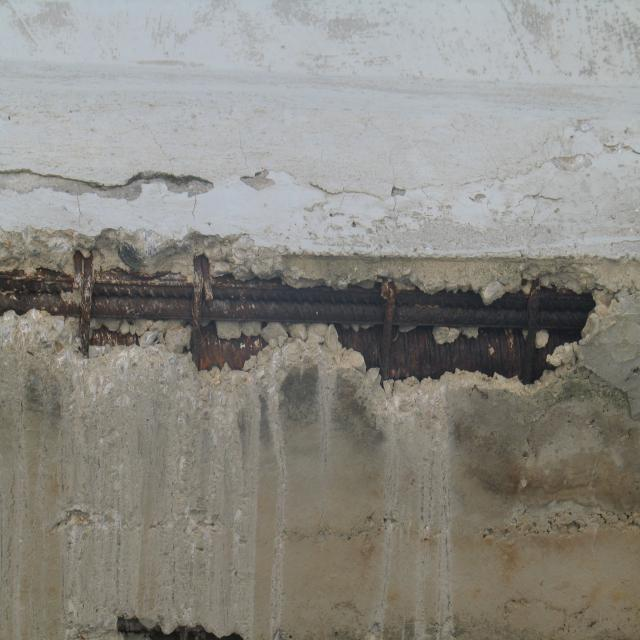corrosion: (0, 241, 605, 389), (108, 612, 250, 640)
